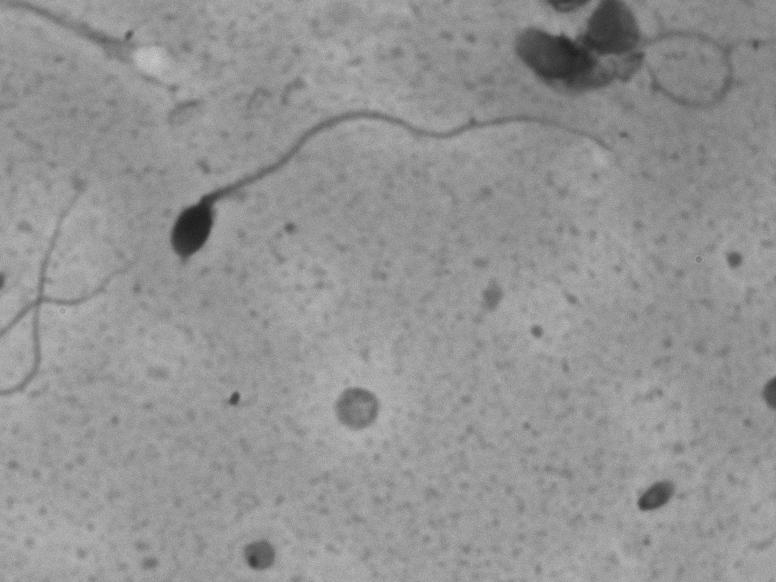Normal: (163, 92, 632, 291)
